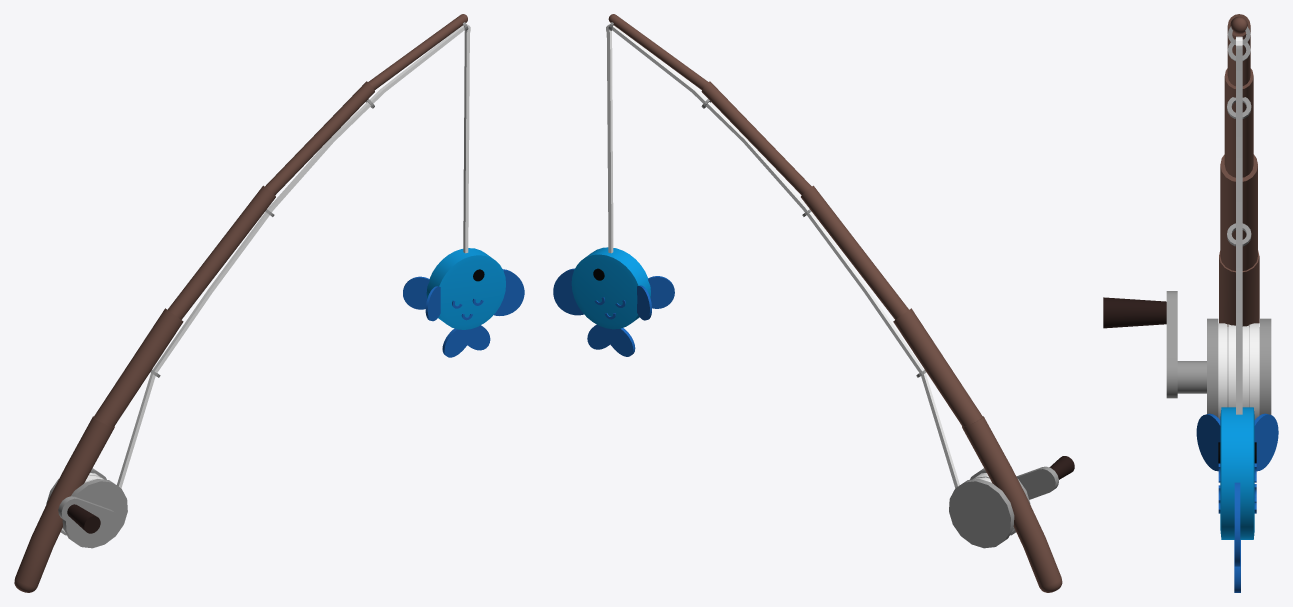
File: fishing_pole.glb
The picture shows the model from 3 angles, left to right: view 1: azimuth 30°, elevation 25°; view 2: azimuth 150°, elevation 25°; view 3: azimuth 270°, elevation 25°; orthographic projection. The views are drawn at different scales.
Parts seen in each view (by area): view 1: Cylinder.478, Circle.2530; view 2: Cylinder.478, Circle.2530; view 3: Cylinder.478, Circle.2530.
Boxes of the visible parts, x1=… form: Cylinder.478: x1=14, y1=14, x2=470, y2=592; Circle.2530: x1=403, y1=248, x2=524, y2=357; Cylinder.478: x1=606, y1=14, x2=1074, y2=592; Circle.2530: x1=553, y1=247, x2=674, y2=356; Cylinder.478: x1=1103, y1=14, x2=1271, y2=419; Circle.2530: x1=1196, y1=407, x2=1278, y2=592.
Size of the model in its own units: 2.27 by 2.01 by 0.4115.
1 material, 1 textured.
